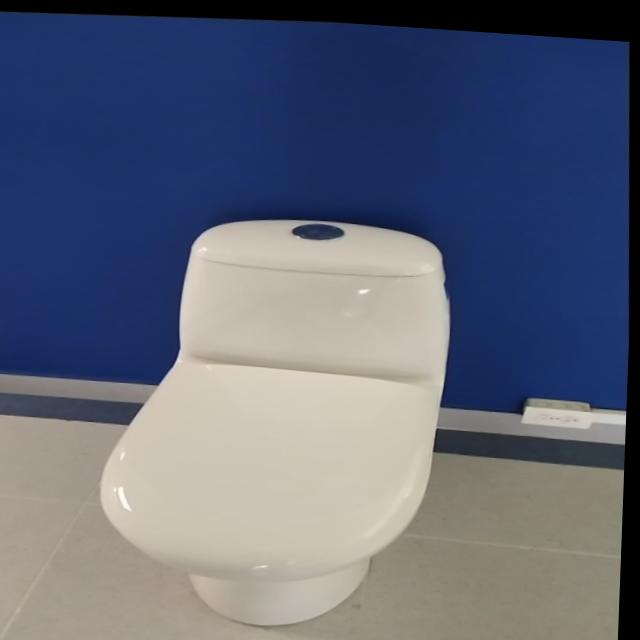toilet: (88, 198, 467, 637)
